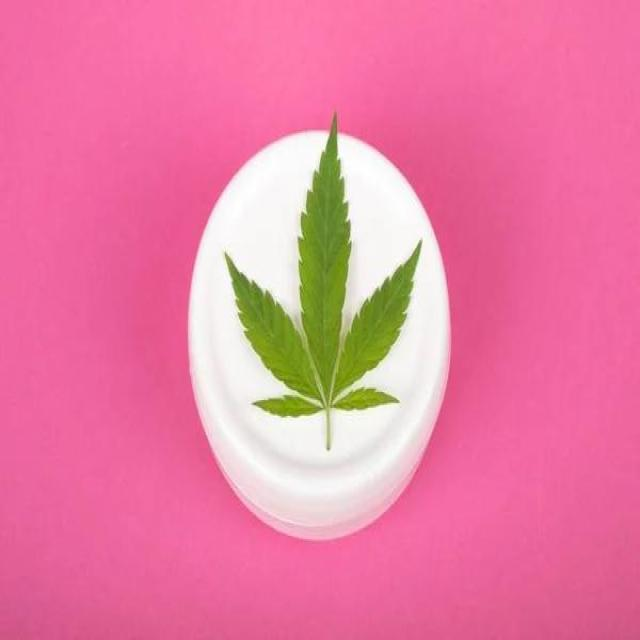cannabis: (225, 115, 422, 453)
